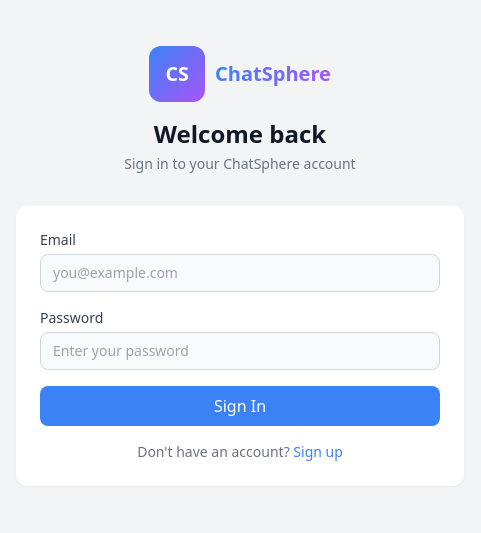
Test: Login Page › should show error message on failed login
Type "test@test.com" into the field with placeholder "you@example.com" at point(240, 273), box x1=40 y1=254 x2=440 y2=292
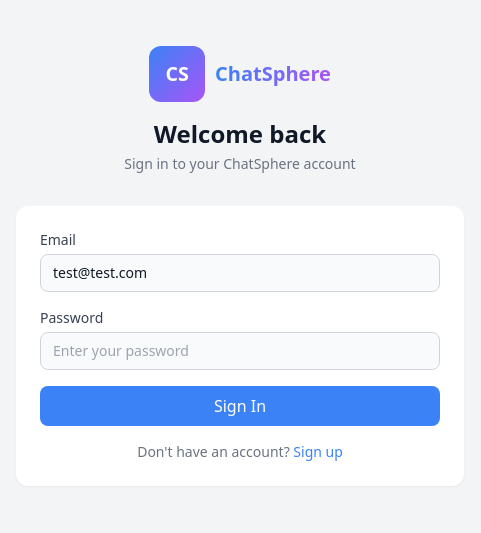
Type "wrong" into the password field with placeholder "Enter your password" at point(240, 351), box x1=40 y1=332 x2=440 y2=370
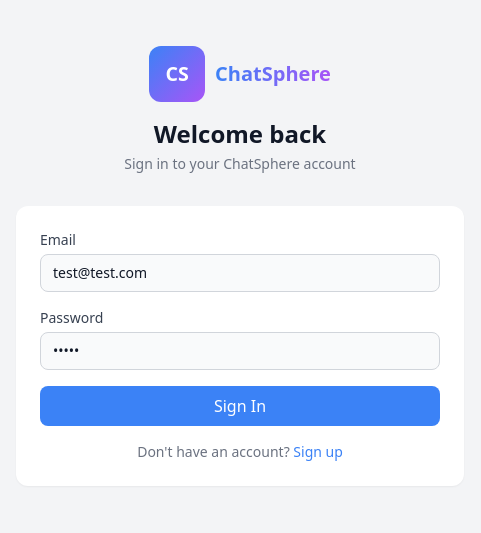
Click the button "Sign In" at point(240, 406), box x1=40 y1=386 x2=440 y2=426
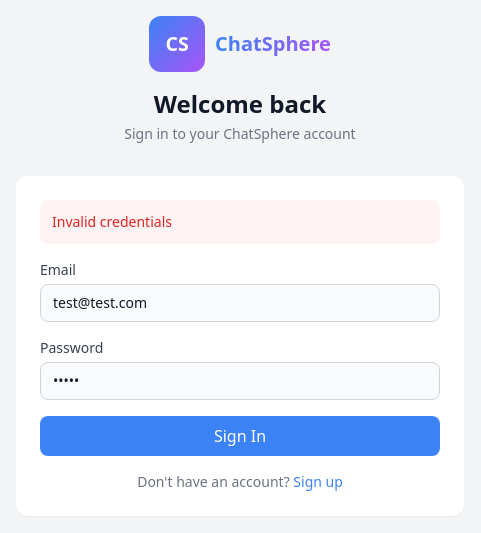
Check: the text "Invalid credentials" is shown, box x1=40 y1=200 x2=440 y2=244
